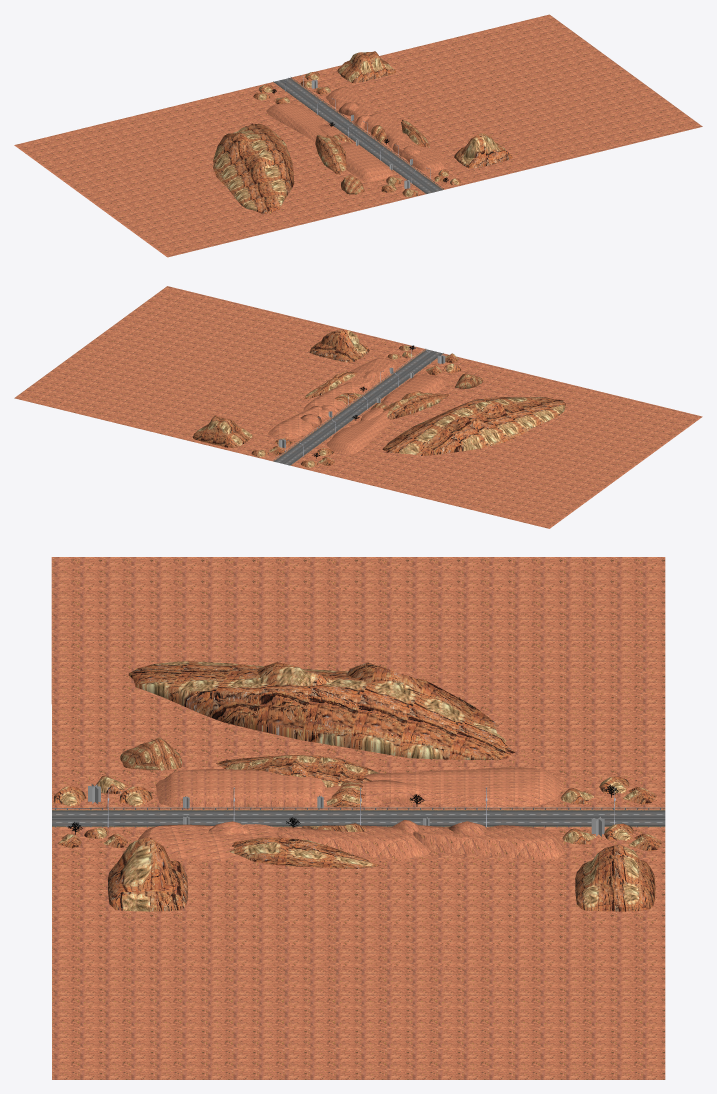
The model's file is desert hill_01.FBX.
3 renders of one model, top to bottom at view 1: azimuth 30°, elevation 25°; view 2: azimuth 150°, elevation 25°; view 3: azimuth 270°, elevation 25°, orthographic. The views are drawn at different scales.
Parts seen in each view (by area): view 1: plan_1, plan_3, Object033, roads_02, Cylinder006, Cylinder009, Cylinder013, Line001, Object020, Object040, Object411, Object036; view 2: plan_1, plan_3, Object033, roads_02, Cylinder006, Cylinder009, Object040, Cylinder013, Object411, Line001, Object020, Object036 (+1 smaller); view 3: plan_1, plan_3, Object033, roads_02, Cylinder006, Line001, Cylinder009, Object040, Cylinder013, Object020, Object036, Object041 (+2 smaller).
Boxes of the visible parts, left/top/right/bottom form: plan_1: left=291, top=14, right=702, bottom=189; plan_3: left=14, top=82, right=425, bottom=257; Object033: left=213, top=123, right=294, bottom=213; roads_02: left=273, top=77, right=443, bottom=194; Cylinder006: left=266, top=103, right=353, bottom=143; Cylinder009: left=454, top=133, right=512, bottom=168; Cylinder013: left=337, top=51, right=395, bottom=82; Line001: left=339, top=142, right=393, bottom=181; Object020: left=391, top=133, right=445, bottom=171; Object040: left=326, top=86, right=373, bottom=127; Object411: left=315, top=135, right=346, bottom=174; Object036: left=364, top=112, right=406, bottom=147; plan_1: left=14, top=286, right=425, bottom=461; plan_3: left=291, top=353, right=702, bottom=528; Object033: left=382, top=397, right=565, bottom=456; roads_02: left=273, top=349, right=443, bottom=465; Cylinder006: left=327, top=402, right=391, bottom=453; Cylinder009: left=309, top=330, right=369, bottom=362; Object040: left=268, top=404, right=339, bottom=438; Cylinder013: left=193, top=415, right=252, bottom=448; Object411: left=383, top=391, right=449, bottom=419; Line001: left=381, top=374, right=447, bottom=403; Object020: left=337, top=358, right=397, bottom=388; Object036: left=303, top=382, right=365, bottom=410; plan_1: left=52, top=827, right=665, bottom=1079; plan_3: left=51, top=557, right=665, bottom=809; Object033: left=128, top=661, right=514, bottom=759; roads_02: left=52, top=809, right=665, bottom=827; Cylinder006: left=322, top=767, right=563, bottom=808; Line001: left=155, top=768, right=326, bottom=807; Cylinder009: left=107, top=837, right=187, bottom=911; Object040: left=391, top=820, right=564, bottom=859; Cylinder013: left=575, top=844, right=655, bottom=911; Object020: left=138, top=821, right=308, bottom=861; Object036: left=277, top=823, right=430, bottom=858; Object041: left=229, top=837, right=379, bottom=868.
Size of the model in its own units: 11621 by 558 by 5766.
